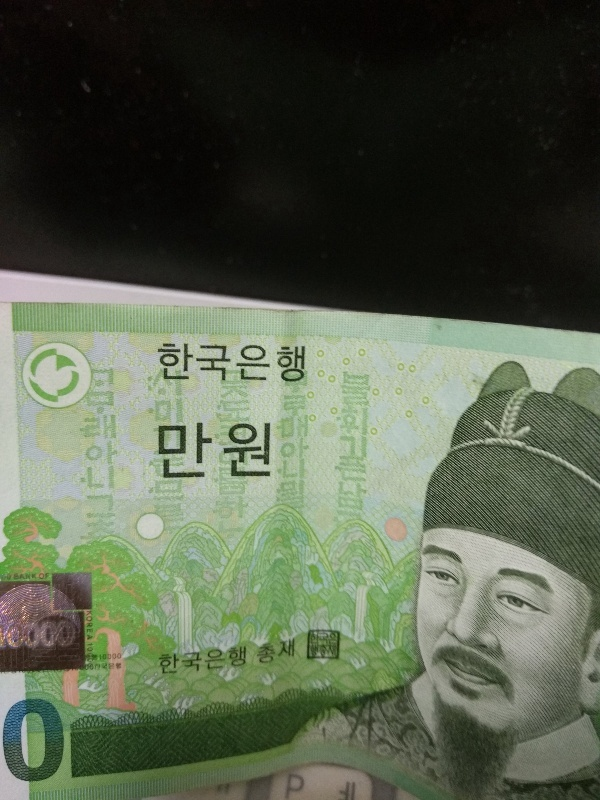text: (97, 366, 112, 544), (353, 368, 368, 523), (84, 366, 96, 544), (342, 368, 352, 523), (49, 698, 65, 785), (17, 698, 32, 785), (33, 698, 48, 785), (3, 698, 16, 785), (289, 415, 304, 483), (161, 420, 176, 482), (177, 420, 192, 482), (193, 420, 208, 482), (209, 420, 224, 482), (225, 420, 240, 482), (241, 420, 256, 482), (257, 420, 272, 482), (113, 366, 118, 544), (161, 341, 176, 386), (177, 341, 192, 386), (193, 341, 208, 386), (209, 341, 224, 386), (225, 341, 240, 386), (241, 341, 256, 386), (257, 341, 272, 386), (273, 341, 288, 386), (289, 341, 304, 386), (280, 415, 288, 483), (161, 645, 176, 680), (177, 645, 192, 680), (193, 645, 208, 680), (209, 645, 224, 680), (225, 645, 240, 680), (1, 619, 16, 653), (17, 619, 32, 653), (33, 619, 48, 653), (49, 619, 64, 653), (257, 636, 272, 670), (273, 636, 288, 670), (321, 629, 336, 662), (369, 368, 372, 523), (305, 415, 311, 483), (289, 392, 304, 419), (308, 629, 320, 662), (65, 619, 76, 653), (86, 609, 96, 644), (289, 772, 304, 794), (241, 645, 248, 680), (289, 636, 296, 670), (17, 571, 32, 585), (97, 652, 112, 665), (97, 662, 112, 673), (85, 652, 96, 665), (157, 341, 160, 386), (283, 392, 288, 419), (158, 420, 160, 482), (85, 662, 96, 673), (113, 652, 122, 665), (38, 572, 48, 583), (113, 662, 122, 673), (337, 629, 340, 662), (305, 341, 307, 386), (33, 571, 38, 585), (305, 392, 307, 419), (305, 772, 307, 794), (159, 645, 160, 680), (14, 571, 16, 585), (287, 772, 288, 794), (49, 572, 50, 583)
